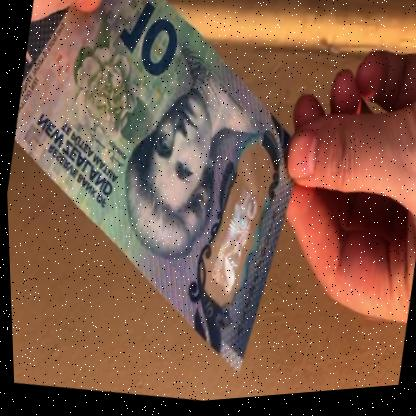10B: (200, 183, 268, 308)
